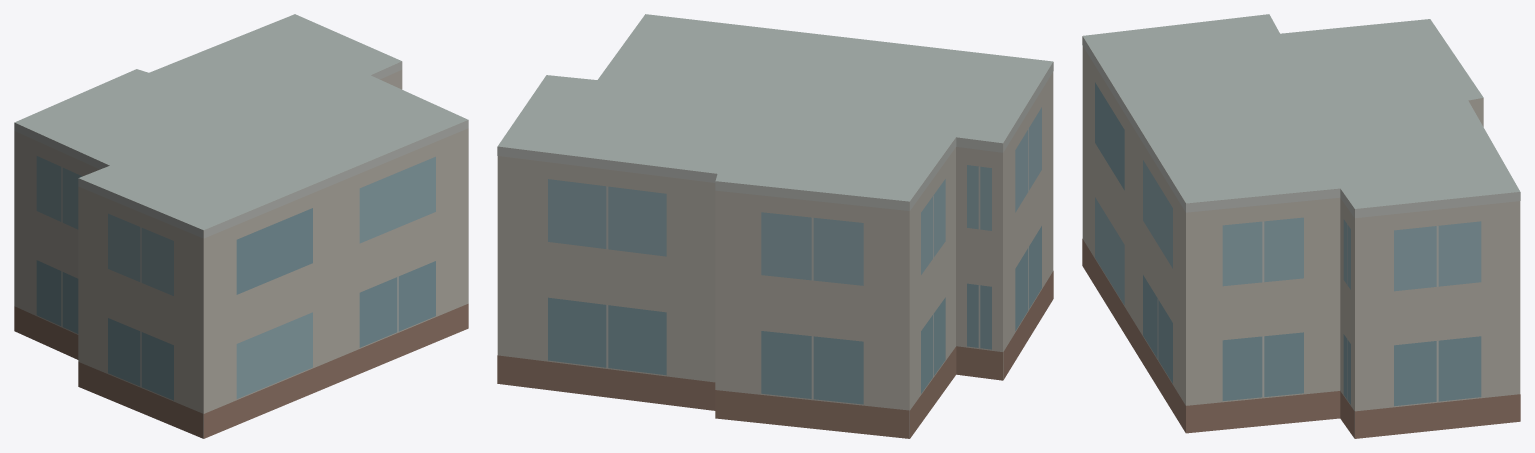
File: survey-upis-33032071.glb
The picture shows the model from 3 angles, left to right: view 1: azimuth 30°, elevation 25°; view 2: azimuth 150°, elevation 25°; view 3: azimuth 270°, elevation 25°; orthographic projection. The views are drawn at different scales.
Parts seen in each view (by area): view 1: survey-upis-33032071.tmp; view 2: survey-upis-33032071.tmp; view 3: survey-upis-33032071.tmp.
Boxes of the visible parts, bbox=[...] form: survey-upis-33032071.tmp: bbox=[14, 14, 468, 438]; survey-upis-33032071.tmp: bbox=[497, 14, 1053, 438]; survey-upis-33032071.tmp: bbox=[1082, 14, 1520, 438].
Bounding box in the file's own units: 11.11 × 6.1 × 10.55.
